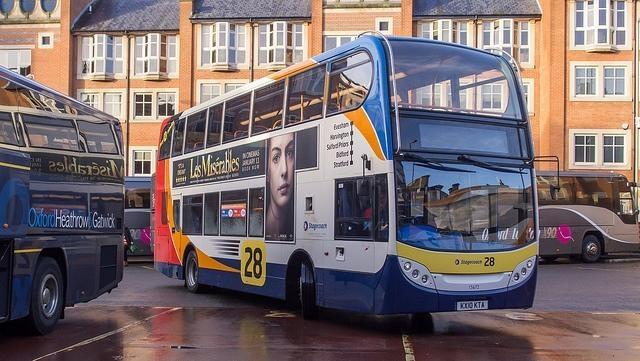bus: (144, 34, 542, 320), (0, 60, 130, 336), (536, 166, 640, 260), (128, 174, 152, 255)
